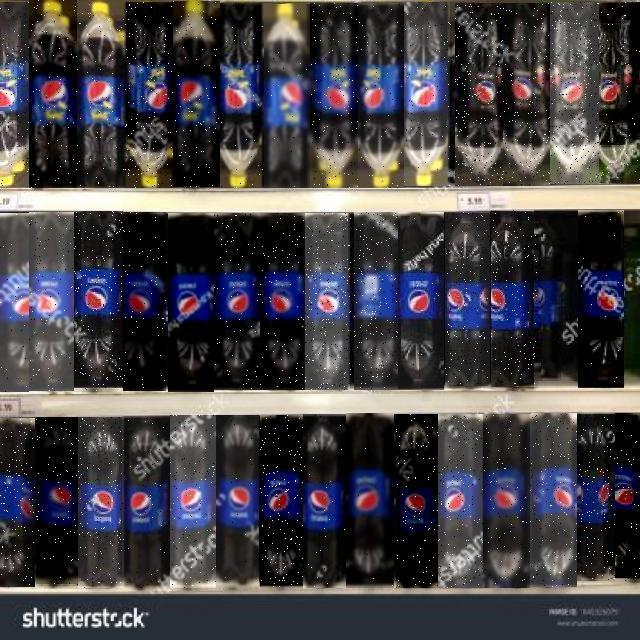Drinks: (77, 1, 126, 189), (29, 1, 77, 189), (172, 1, 220, 187), (125, 3, 173, 189), (550, 2, 599, 184), (311, 3, 359, 188), (404, 3, 452, 187), (74, 212, 123, 392), (455, 3, 503, 186), (502, 4, 550, 186), (358, 3, 404, 188), (220, 3, 266, 188), (266, 4, 312, 188), (346, 414, 394, 590), (122, 416, 170, 590), (484, 414, 532, 588), (168, 213, 214, 392), (122, 212, 168, 391), (399, 212, 445, 390), (579, 210, 625, 388), (260, 213, 306, 390), (306, 213, 352, 390), (492, 210, 538, 387), (214, 213, 260, 390), (29, 212, 74, 391), (445, 212, 490, 390), (438, 414, 484, 588), (170, 416, 216, 590), (531, 413, 577, 587), (78, 417, 124, 588), (354, 212, 398, 390), (598, 2, 640, 184), (216, 416, 259, 590), (260, 416, 303, 590), (303, 414, 346, 588), (396, 415, 438, 589), (36, 418, 78, 586), (578, 414, 616, 580), (0, 418, 35, 587), (0, 1, 29, 187), (0, 213, 29, 392), (615, 414, 640, 582)
